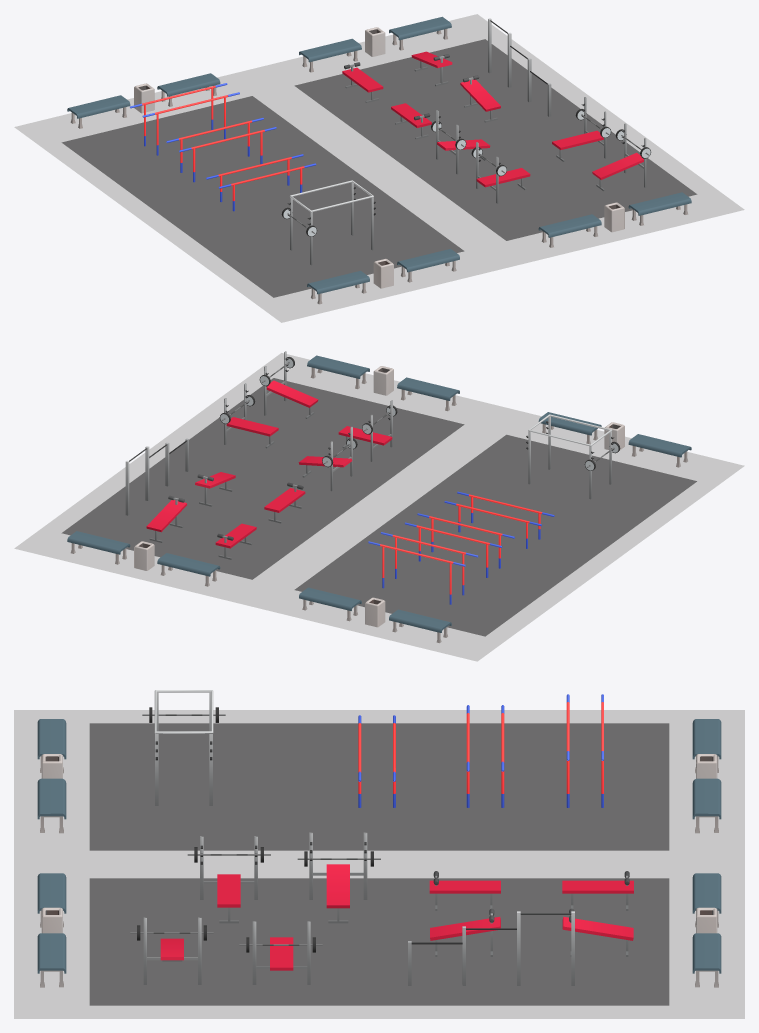
File: Entertainment_Gym_01.glb
3 views of the same model, one above another, from view 1: azimuth 30°, elevation 25°; view 2: azimuth 150°, elevation 25°; view 3: azimuth 270°, elevation 25° (orthographic). The views are drawn at different scales.
Parts seen in each view (by area): view 1: Entertainment_Gym_01; view 2: Entertainment_Gym_01; view 3: Entertainment_Gym_01.
Part boxes in pixels (x1,y1,x2,y2): Entertainment_Gym_01: [14, 14, 744, 322]; Entertainment_Gym_01: [14, 351, 744, 661]; Entertainment_Gym_01: [14, 690, 744, 1018].
Bounding box in the file's own units: 15 × 1.7 × 15.
1 material, 1 textured.
